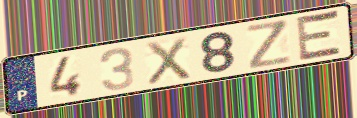3: (98, 46, 136, 91)
4: (48, 53, 85, 99)
8: (198, 30, 238, 76)
E: (295, 8, 345, 64)
X: (144, 35, 194, 88)
Z: (244, 18, 294, 71)
